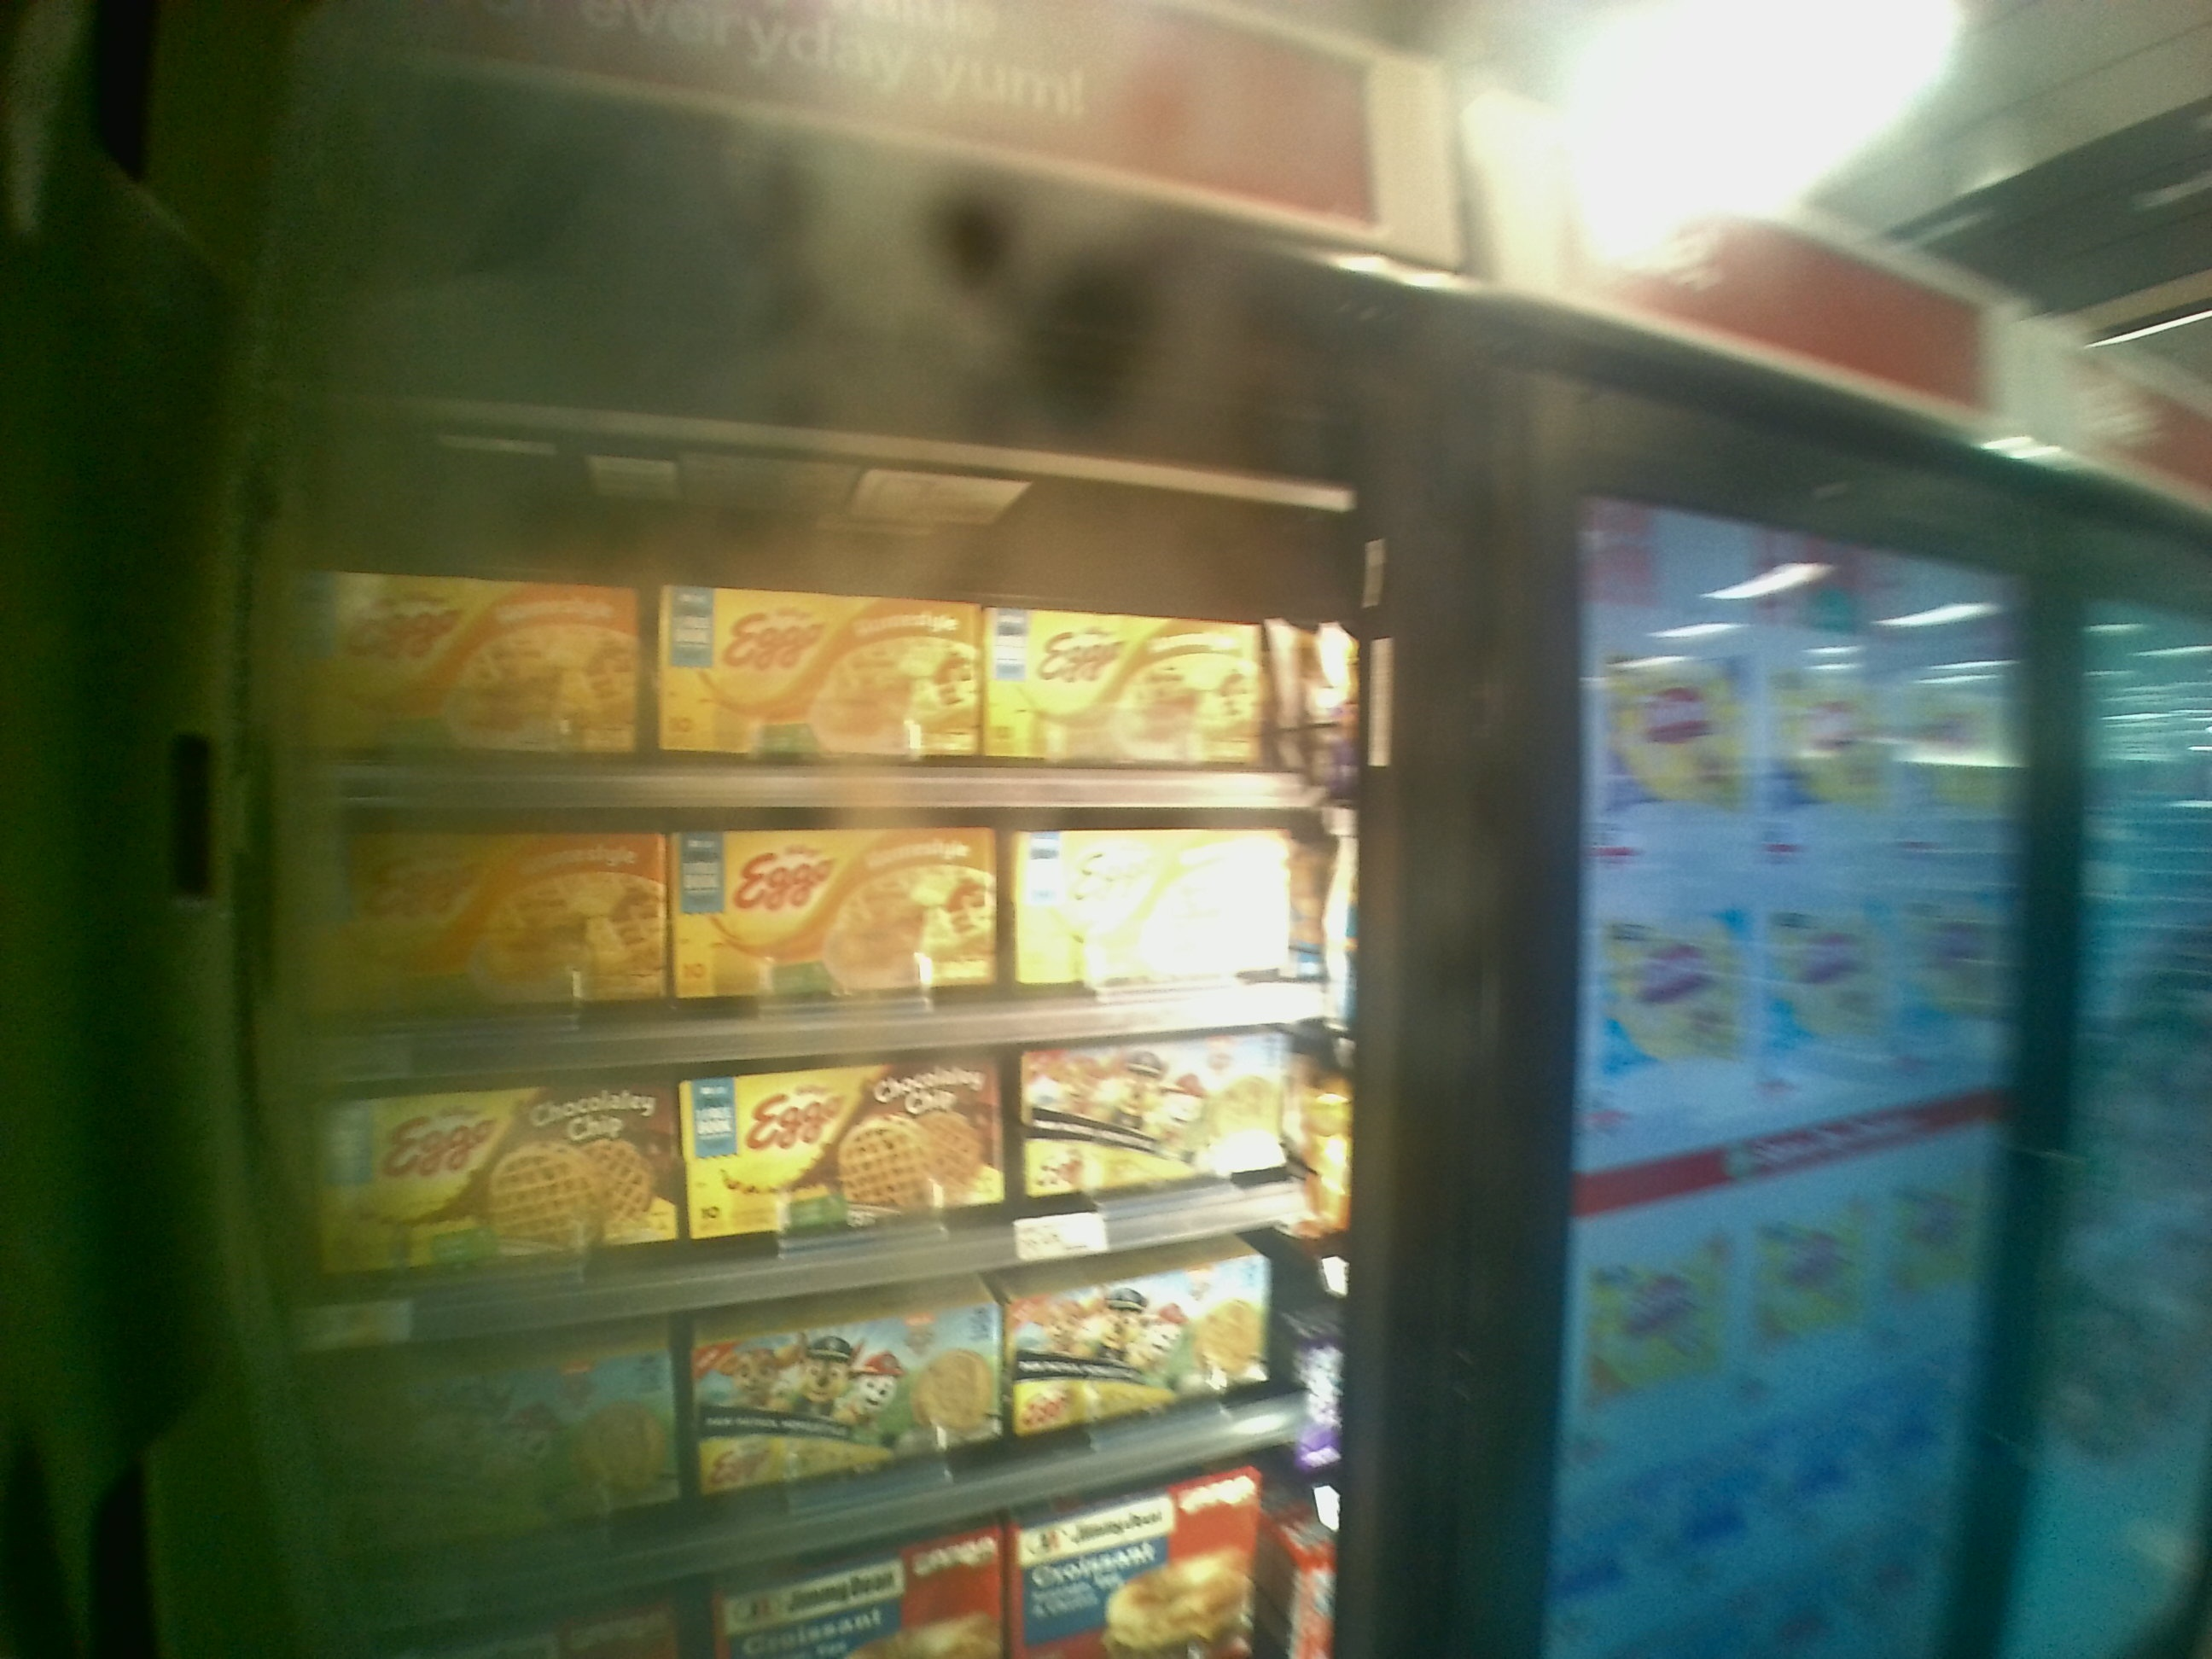shelf: (280, 1019, 1350, 1364), (280, 472, 1372, 809), (280, 814, 1388, 1075)
